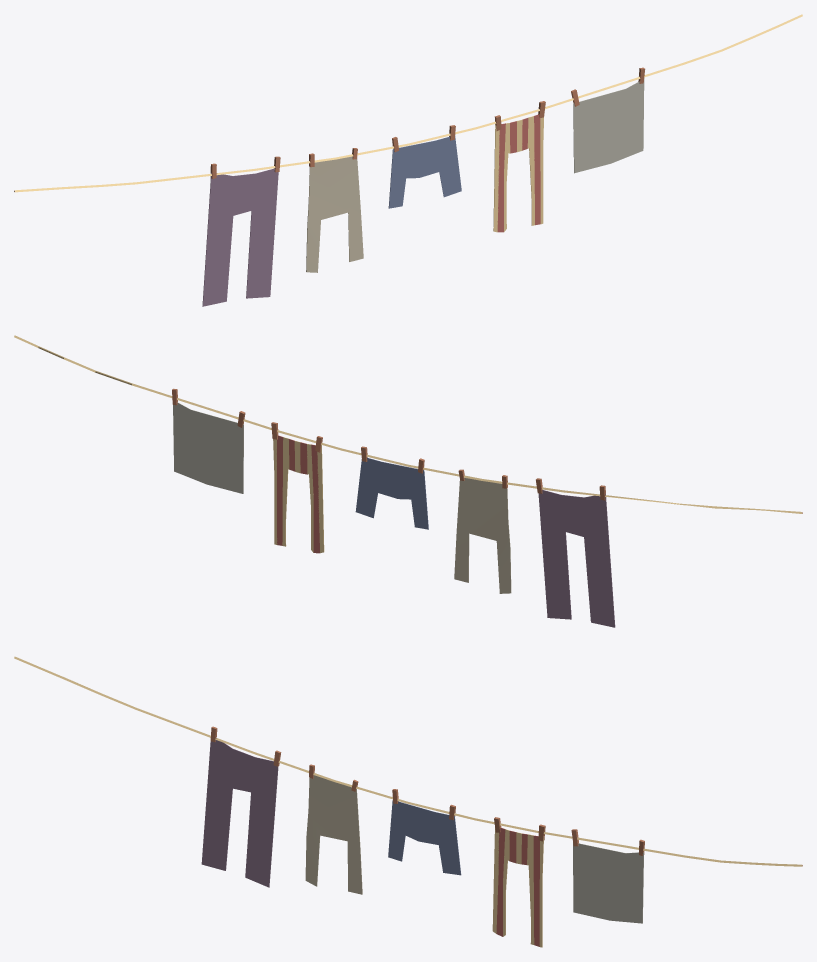
The model's file is Laundry.fbx.
3 views of the same model, one above another, from view 1: azimuth 30°, elevation 25°; view 2: azimuth 150°, elevation 25°; view 3: azimuth 330°, elevation 25° (orthographic).
Visible parts, largest first — view 1: laundry; view 2: laundry; view 3: laundry.
Part boxes in pixels (box(x1,y1,x2,y2)): laundry: box(14, 14, 802, 306); laundry: box(14, 335, 802, 627); laundry: box(14, 656, 802, 947).
Bounding box in the file's own units: 1468 × 300 × 7.85.
